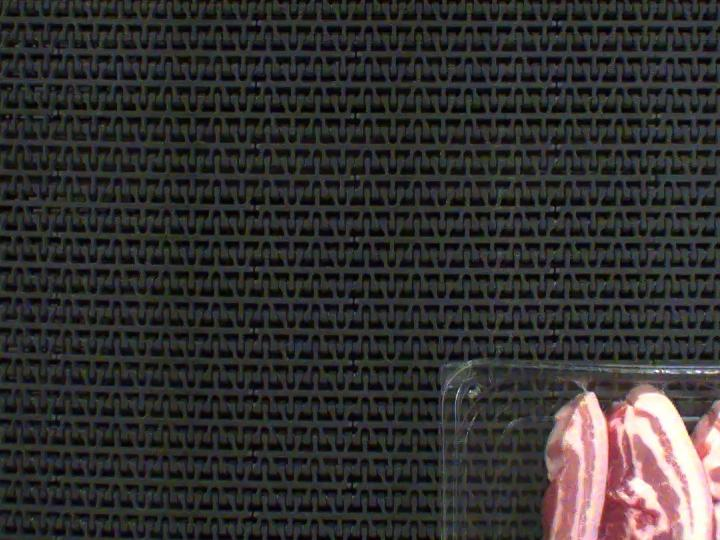packaging-error: (562, 370, 598, 397)
